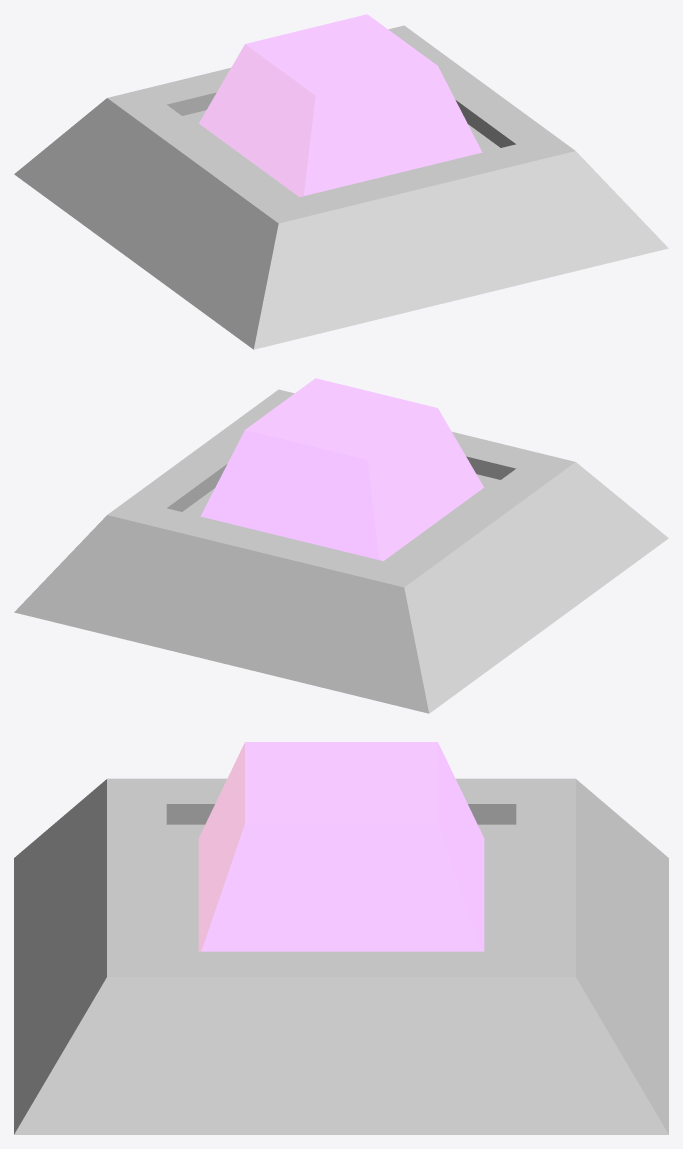
Rendered from Lamp_Small.fbx.
3 renders of one model, top to bottom at view 1: azimuth 30°, elevation 25°; view 2: azimuth 150°, elevation 25°; view 3: azimuth 270°, elevation 25°, orthographic. The views are drawn at different scales.
Visible parts, largest first — view 1: Lamp_Small; view 2: Lamp_Small; view 3: Lamp_Small.
Part boxes in pixels (<box>): Lamp_Small: <box>14,14,668,349</box>; Lamp_Small: <box>14,378,668,713</box>; Lamp_Small: <box>14,742,668,1134</box>.
Size of the model in its own units: 0.15 by 0.054 by 0.15.
